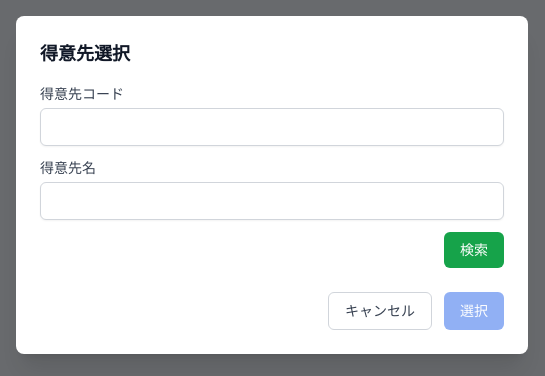
Test case: CustomerSelectDialog › バリデーション › 得意先コードに5桁超入力すると警告
This screenshot has width=545, height=376.
Type "123456" into the field labelled "得意先コード" at (272, 127), box [40,108,504,146]
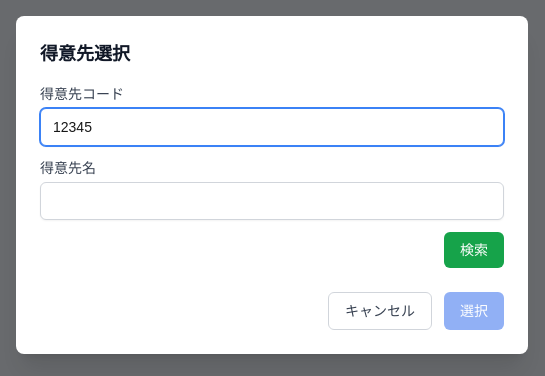
Now the field labelled "得意先コード" holds "12345", box [40,108,504,146]
